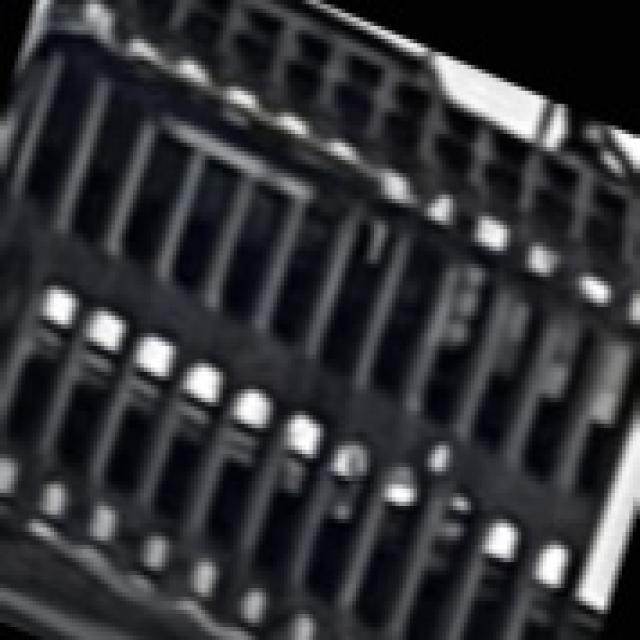igps: (202, 123, 448, 640), (55, 48, 286, 586), (5, 20, 232, 554), (172, 127, 413, 626), (117, 74, 346, 594), (264, 149, 497, 640), (0, 8, 194, 546), (322, 176, 540, 640), (372, 199, 596, 640), (420, 228, 640, 640), (492, 246, 640, 639), (0, 0, 122, 251)
